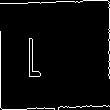L_N: (48, 29, 62, 81)
